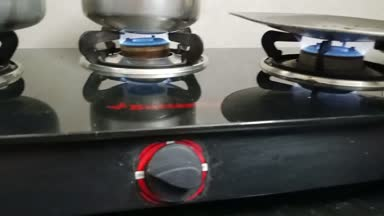flame_gas_on: (97, 27, 207, 201), (279, 32, 383, 82)
